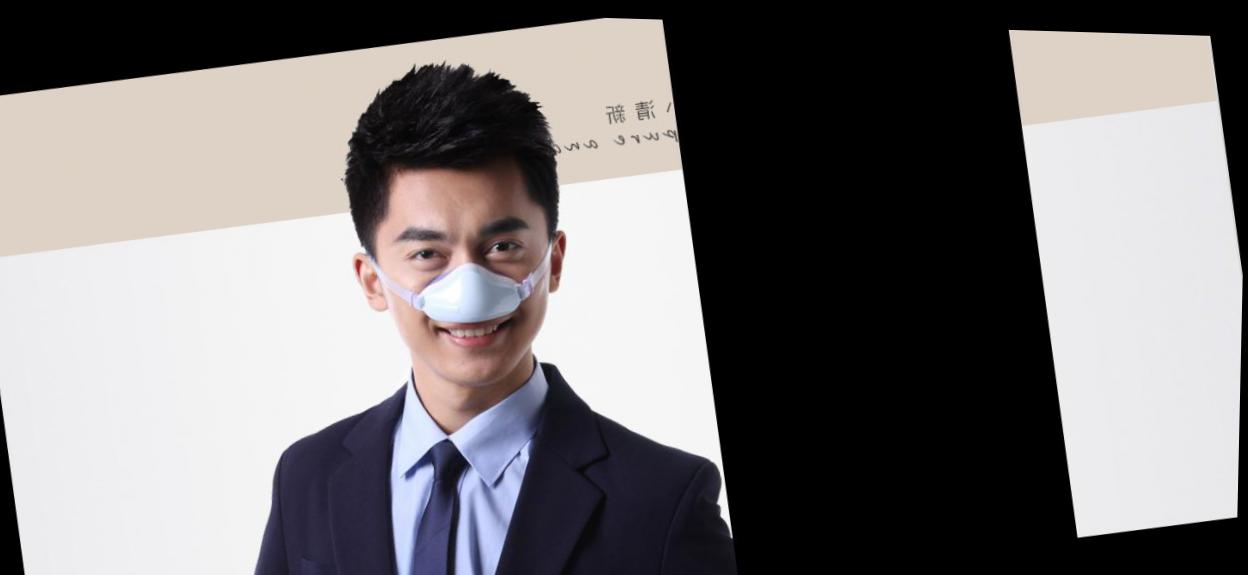WRONG: (374, 193, 576, 395)
